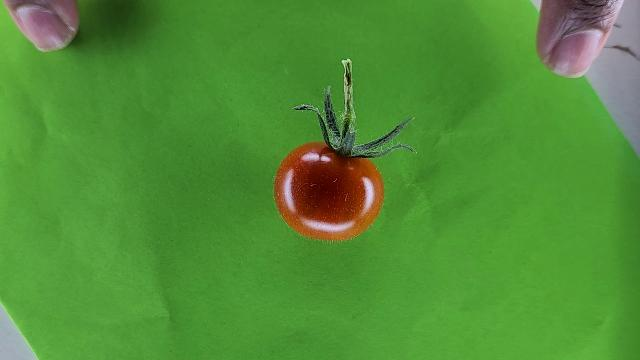Fully Grown: (273, 142, 387, 243)
